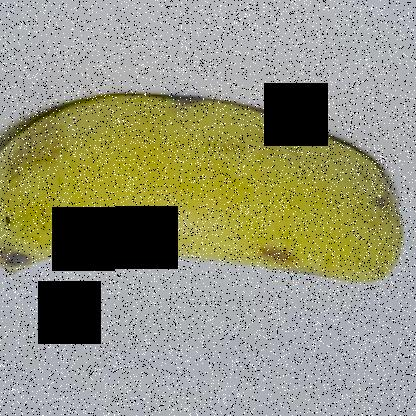freshripe: (1, 44, 414, 314)
